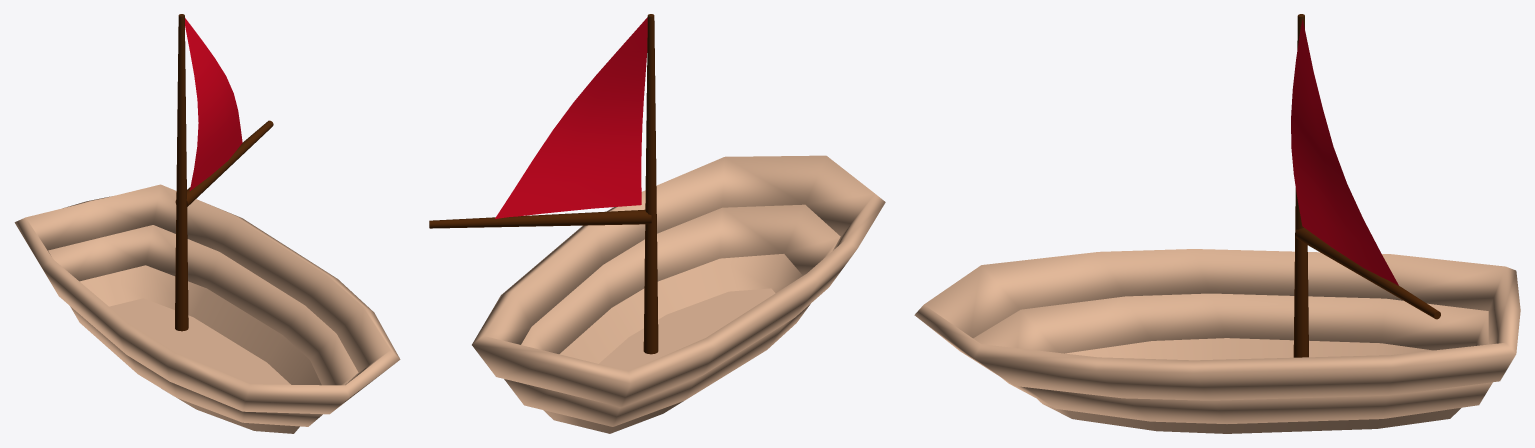
The model's file is Boat.glb.
3 renders of one model, left to right at view 1: azimuth 30°, elevation 25°; view 2: azimuth 150°, elevation 25°; view 3: azimuth 270°, elevation 25°, orthographic. The views are drawn at different scales.
Visible parts, largest first — view 1: Plane; view 2: Plane; view 3: Plane.
Boxes of the visible parts, bbox=[...] form: Plane: bbox=[14, 14, 400, 433]; Plane: bbox=[429, 14, 885, 433]; Plane: bbox=[914, 14, 1520, 433].
Size of the model in its own units: 1.08 by 1.34 by 1.9.
